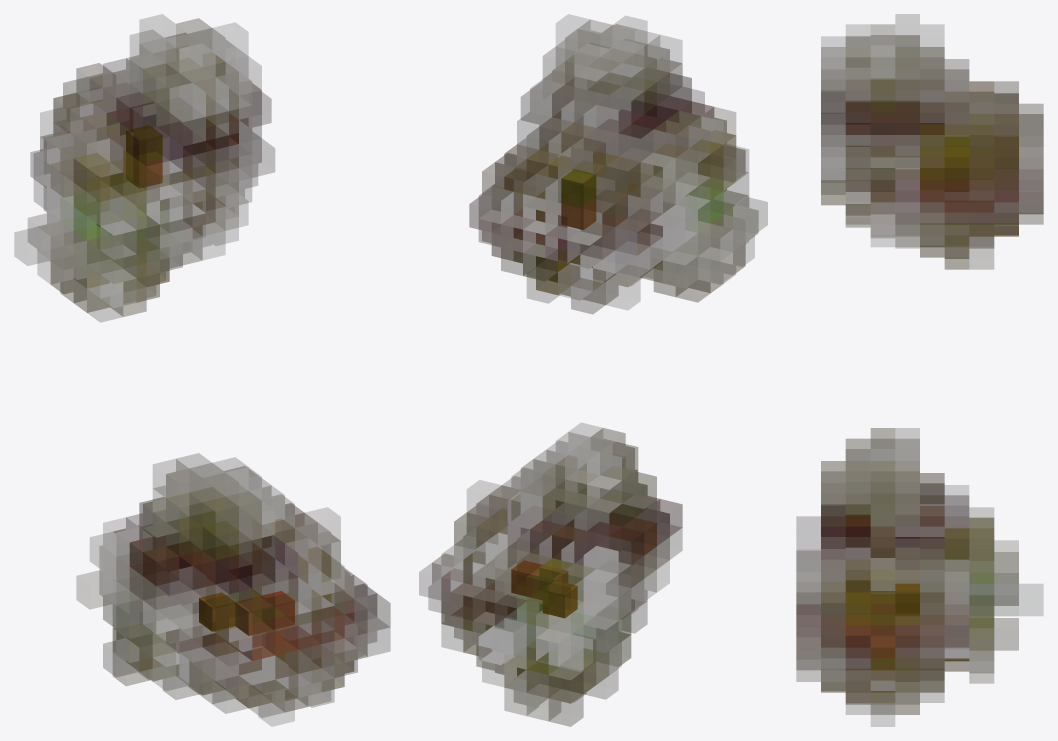
File: iter_10.obj
The picture shows the model from 3 angles, left to right: view 1: azimuth 30°, elevation 25°; view 2: azimuth 150°, elevation 25°; view 3: azimuth 270°, elevation 25°; orthographic projection. The views are drawn at different scales.
Parts seen in each view (by area): view 1: iter_10; view 2: iter_10; view 3: iter_10.
Boxes of the visible parts, x1,y1,x2,y2 form: iter_10: (15, 14, 390, 726); iter_10: (419, 14, 767, 726); iter_10: (796, 14, 1043, 726).
Bounding box in the file's own units: 1.4 × 2.9 × 1.
